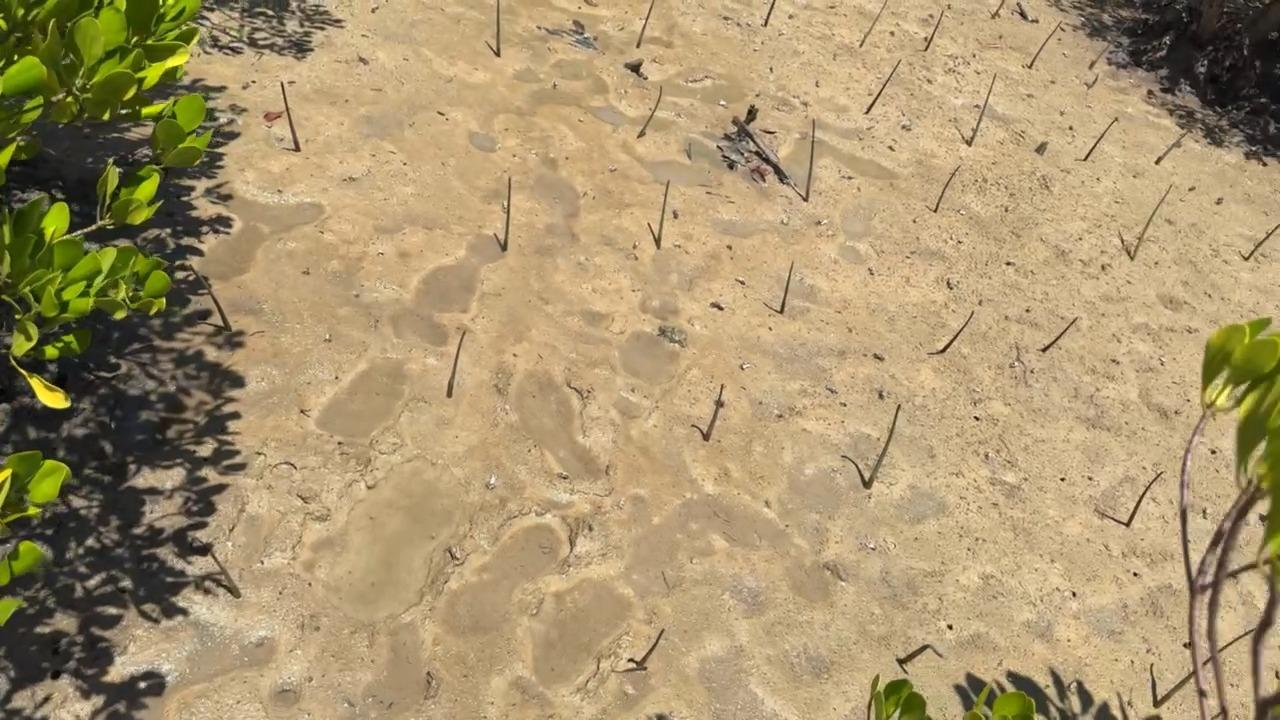Tree: (1155, 626, 1261, 708), (864, 403, 901, 489), (1132, 184, 1171, 261), (190, 266, 233, 331), (200, 541, 241, 597), (1125, 471, 1164, 527), (864, 59, 900, 115), (1089, 19, 1130, 68), (970, 73, 996, 146), (1028, 22, 1062, 69), (280, 81, 301, 151), (637, 84, 664, 138), (447, 330, 468, 398), (1083, 119, 1117, 161), (940, 310, 974, 352), (859, 0, 887, 48), (1041, 317, 1078, 353), (934, 165, 961, 212), (1247, 225, 1280, 262), (1154, 130, 1189, 164), (637, 629, 665, 669), (897, 643, 945, 665), (655, 179, 670, 249), (704, 383, 722, 441), (804, 119, 816, 201), (635, 0, 654, 49), (502, 176, 512, 251), (925, 11, 943, 52), (780, 262, 793, 315), (763, 0, 776, 26), (991, 0, 1006, 18), (497, 0, 501, 56)
